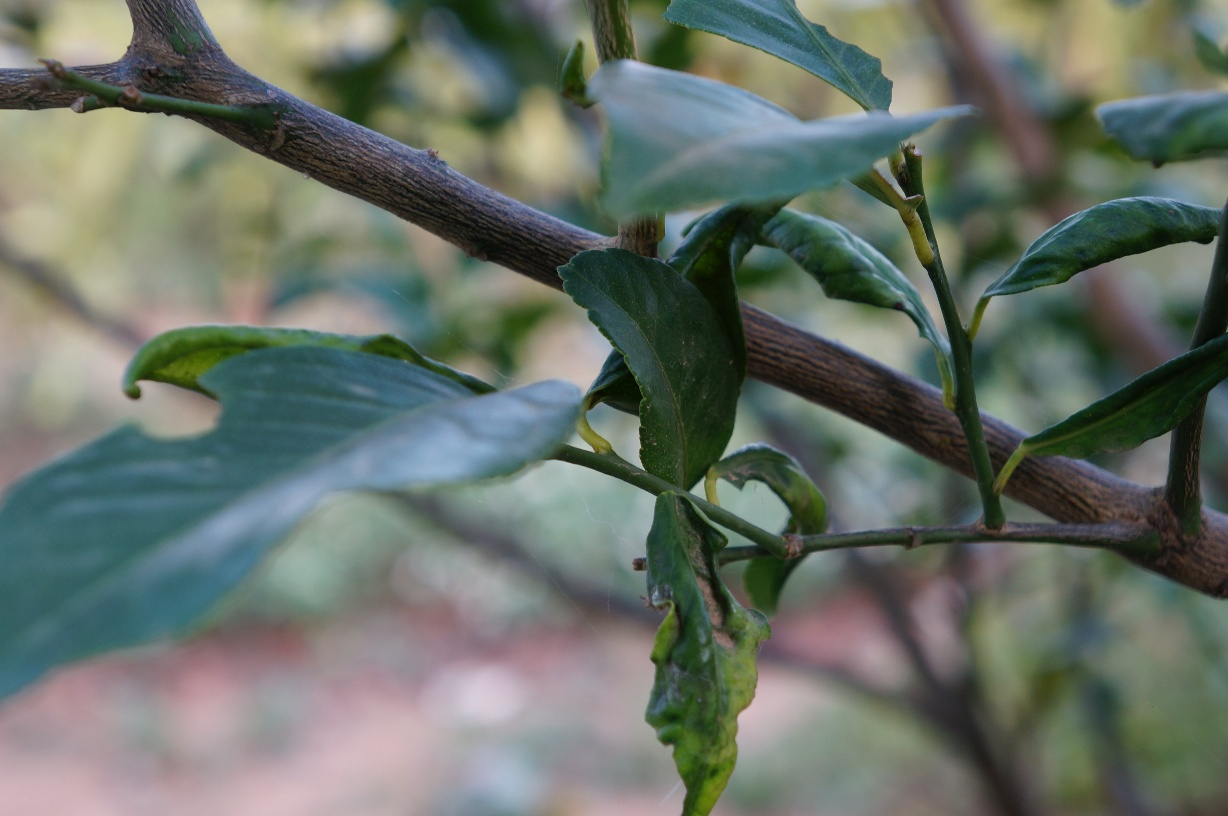curly: (615, 479, 791, 816)
